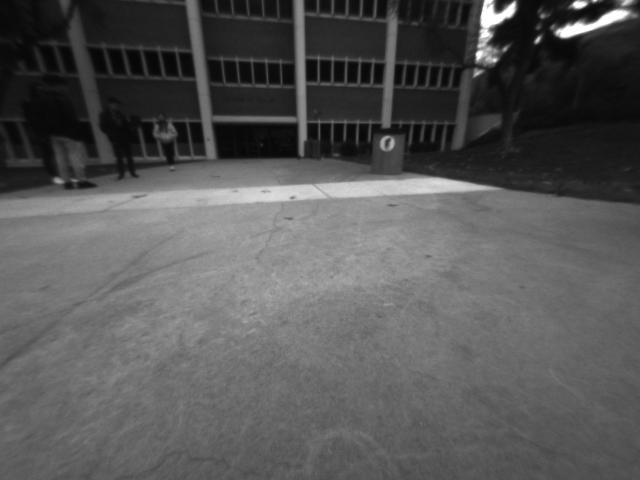trashcan: (371, 126, 415, 187)
